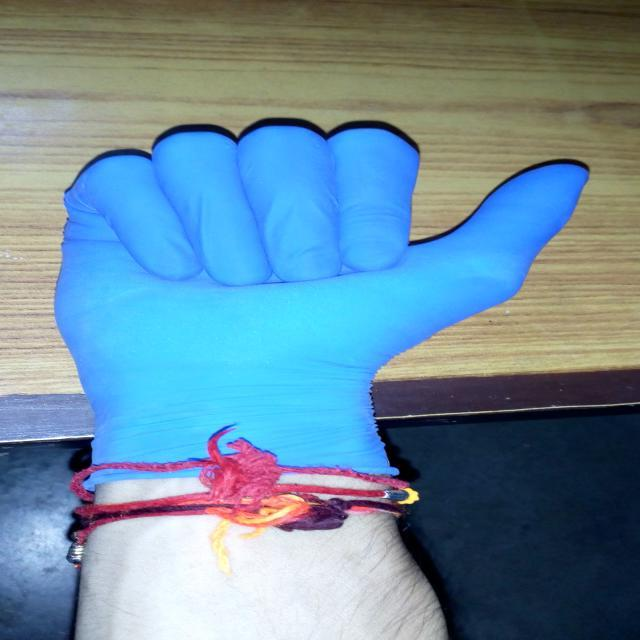gloved_hand: (46, 118, 598, 484)
